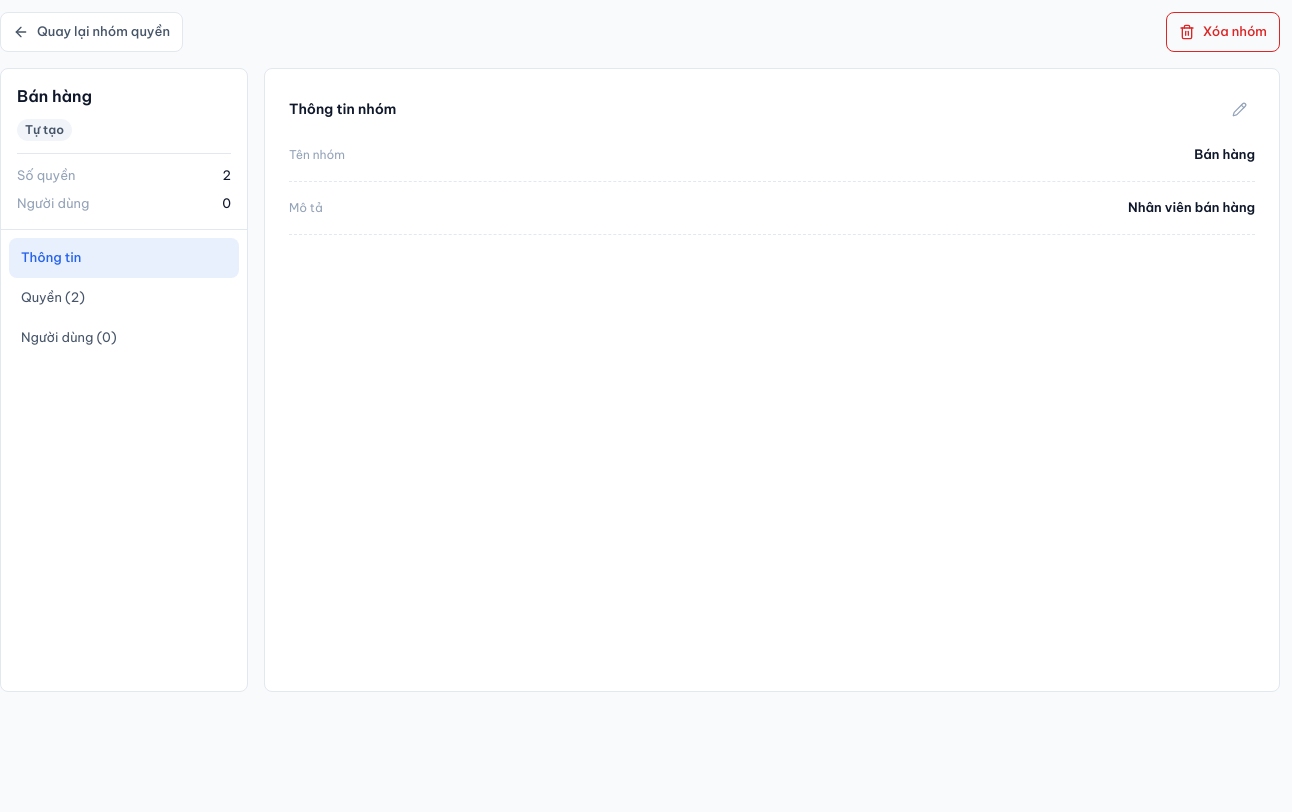
Test: RoleDetail — sửa thông tin › tên trùng (409 từ máy chủ) → khung cảnh báo, vẫn ở chế độ sửa
Click the button named "Chỉnh sửa thông tin nhóm". click: {"x": 1239, "y": 109}
box: x1=1223 y1=93 x2=1255 y2=125
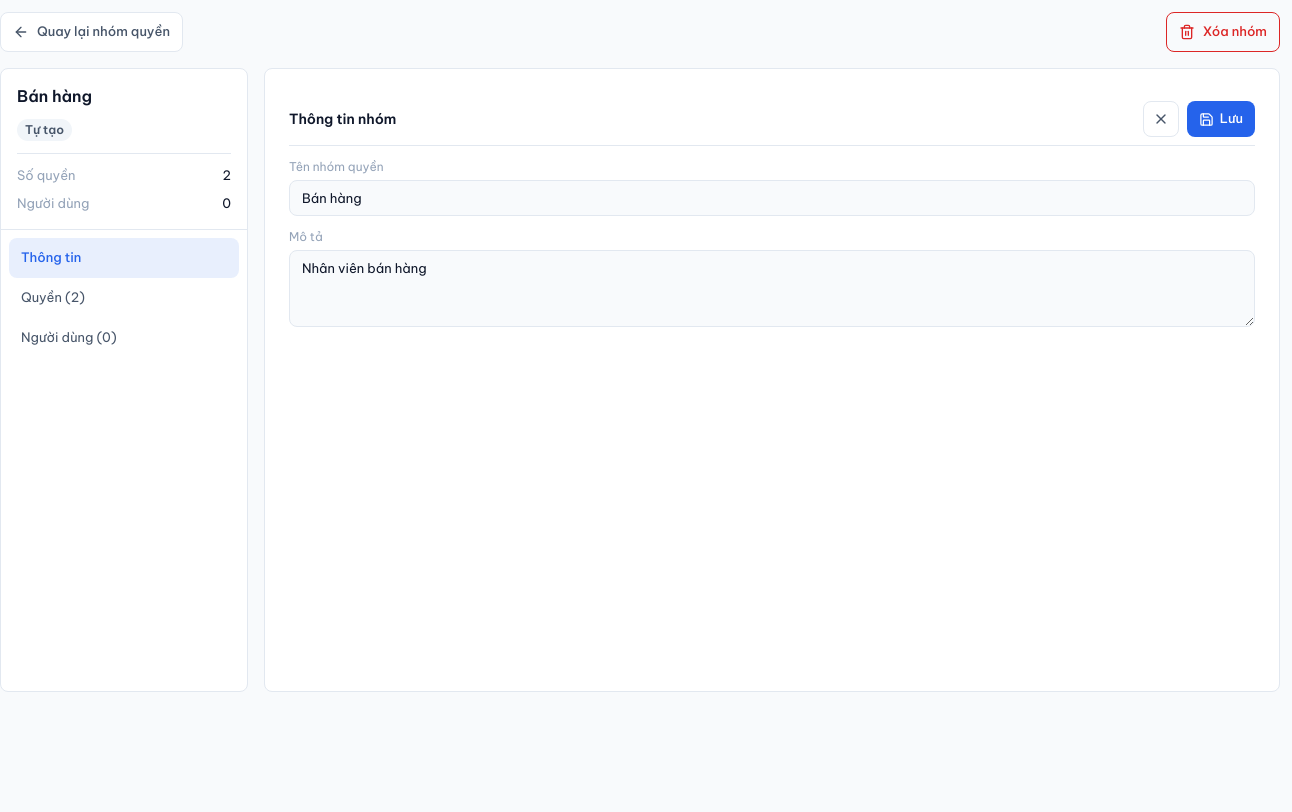
Type " 2" into the field labelled "Tên nhóm quyền". click: {"x": 772, "y": 198}
box: x1=289 y1=180 x2=1255 y2=216
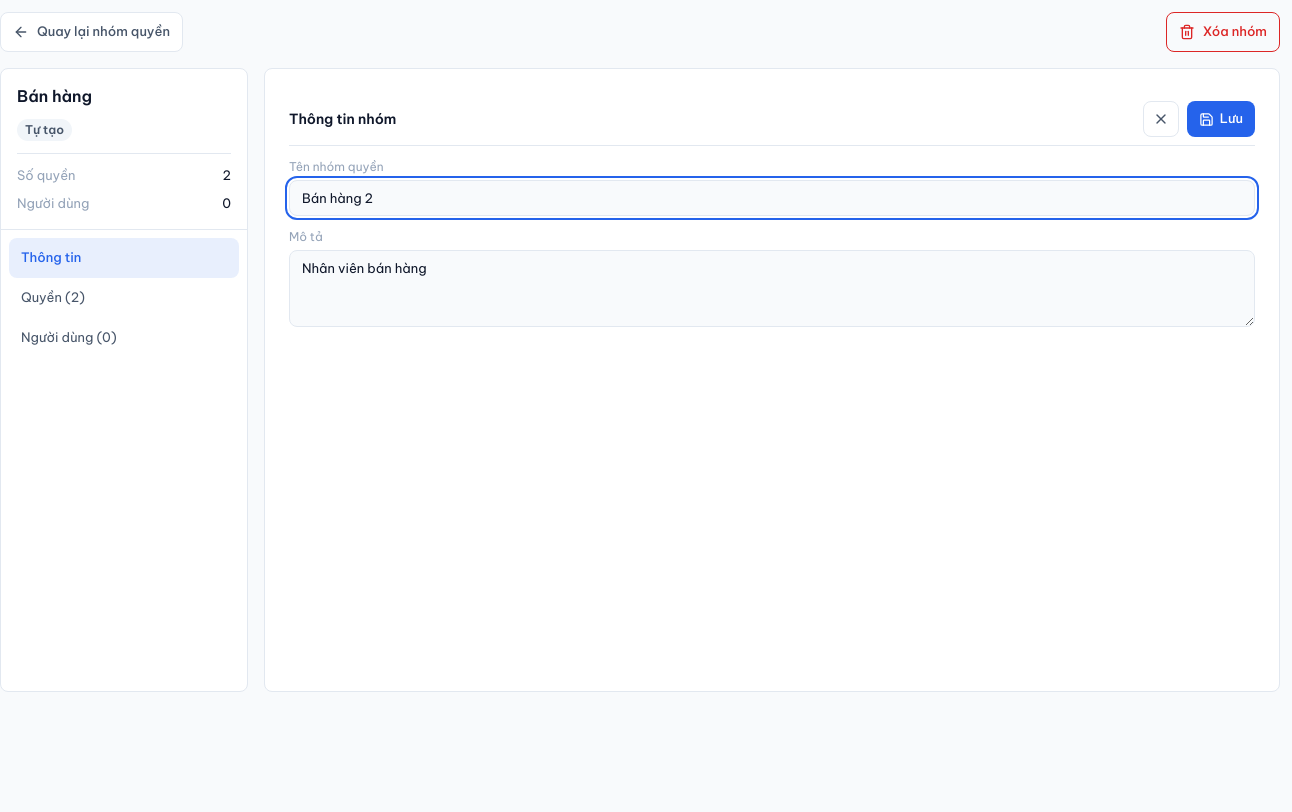
Click the button "Lưu". click: {"x": 1221, "y": 119}
box: x1=1187 y1=101 x2=1255 y2=137
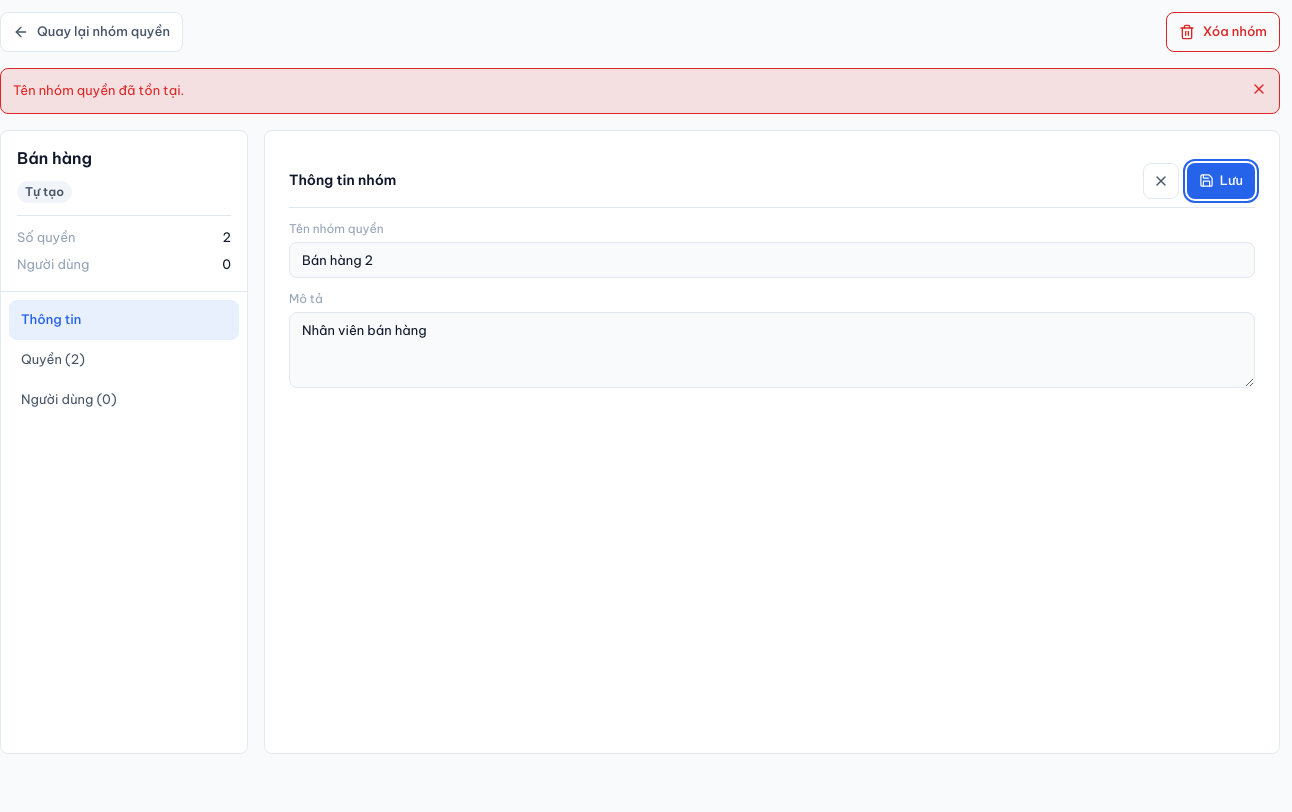
expect the button "Lưu" is enabled: met, box x1=1187 y1=162 x2=1255 y2=198
expect the message reads "Tên nhóm quyền đã tồn tại.": met, box x1=13 y1=82 x2=184 y2=98
